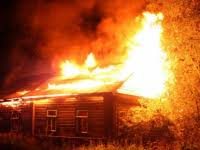fire: (49, 19, 180, 106)
